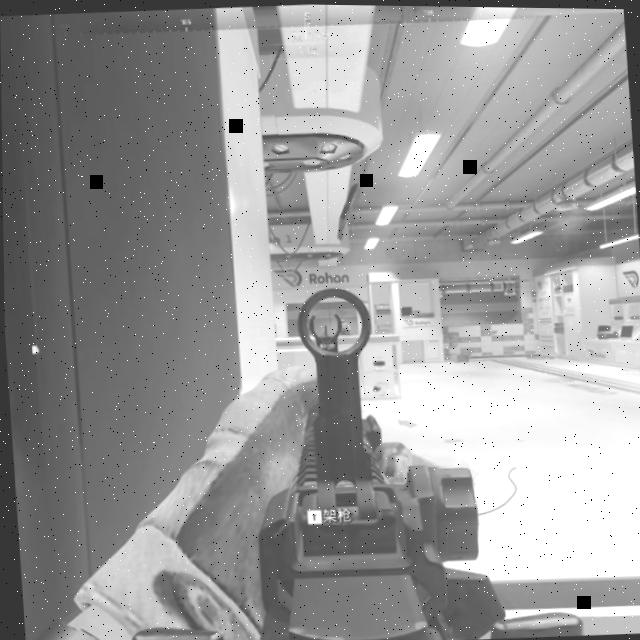MW2_body: (335, 303, 350, 334)
